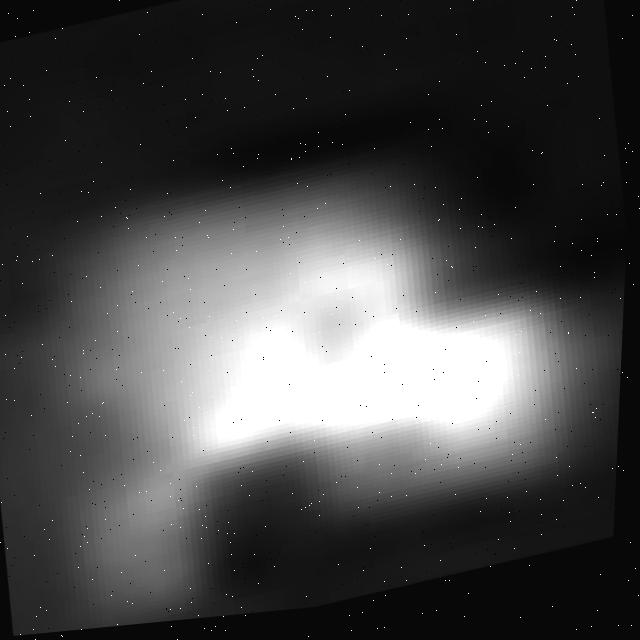person: (1, 103, 636, 640)
